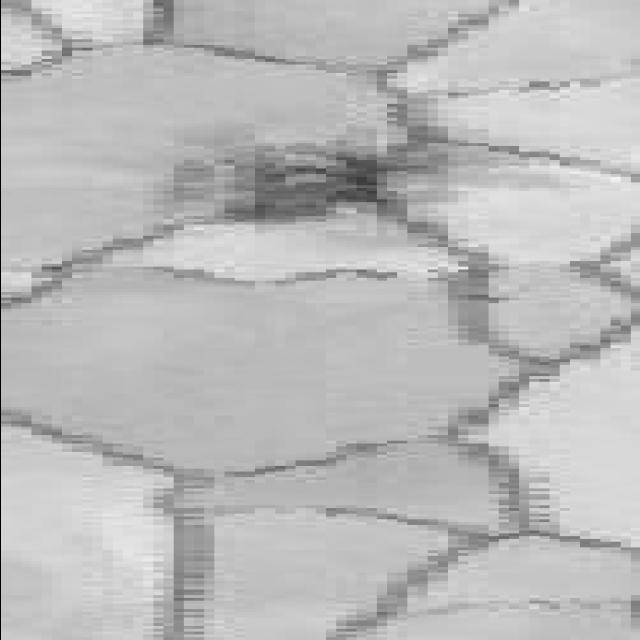good_void: (135, 127, 557, 229)
